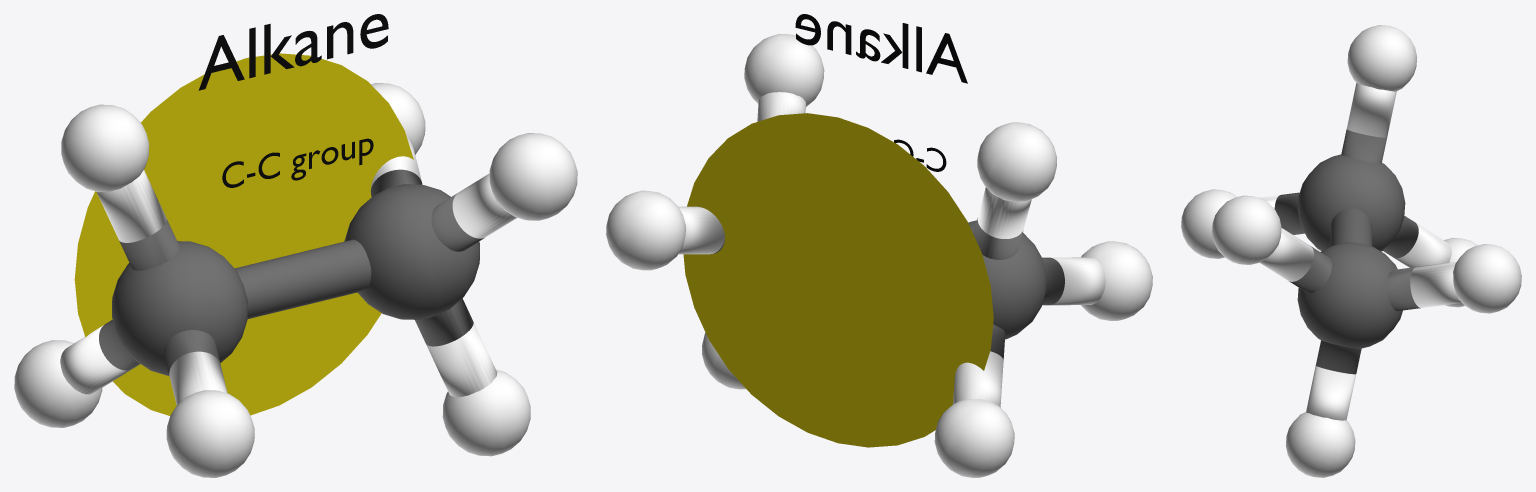
File: 6alkane.glb
The picture shows the model from 3 angles, left to right: view 1: azimuth 30°, elevation 25°; view 2: azimuth 150°, elevation 25°; view 3: azimuth 270°, elevation 25°; orthographic projection. The views are drawn at different scales.
Parts seen in each view (by area): view 1: Shape_IndexedFaceSet.028_3, Circle_0, Text.002_4, Text.003_5; view 2: Circle_0, Shape_IndexedFaceSet.028_3, Text.002_4; view 3: Shape_IndexedFaceSet.028_3.
Part boxes in pixels (x1,y1,x2,y2): Shape_IndexedFaceSet.028_3: (14, 83, 577, 477); Circle_0: (74, 53, 413, 415); Text.002_4: (198, 14, 388, 90); Text.003_5: (222, 138, 373, 187); Circle_0: (683, 113, 993, 447); Shape_IndexedFaceSet.028_3: (606, 34, 1152, 477); Text.002_4: (795, 14, 967, 83); Shape_IndexedFaceSet.028_3: (1181, 25, 1521, 477).
Size of the model in its own units: 1.21 by 1.27 by 1.08.
